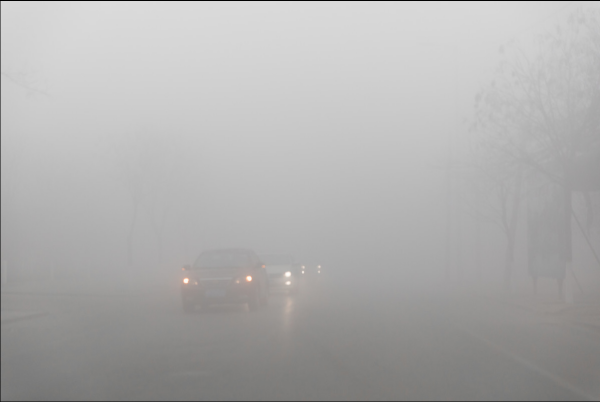car: (183, 248, 268, 311), (253, 251, 298, 295)
